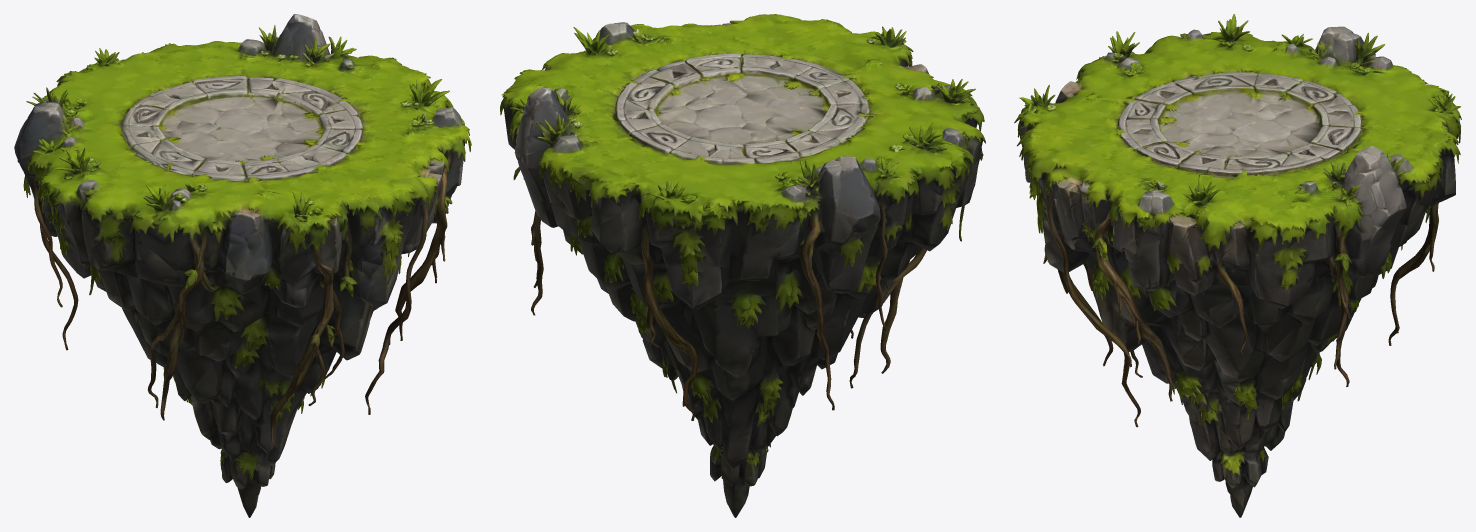
File: 01-crystal-isle-base.glb
3 renders of one model, left to right at view 1: azimuth 30°, elevation 25°; view 2: azimuth 150°, elevation 25°; view 3: azimuth 270°, elevation 25°, orthographic. The views are drawn at different scales.
Visible parts, largest first — view 1: tripo_node_db01f2f9-8520-4ed5-aa2b-e95d7a02ebef; view 2: tripo_node_db01f2f9-8520-4ed5-aa2b-e95d7a02ebef; view 3: tripo_node_db01f2f9-8520-4ed5-aa2b-e95d7a02ebef.
Part boxes in pixels (x1,y1,x2,y2): tripo_node_db01f2f9-8520-4ed5-aa2b-e95d7a02ebef: (14, 14, 471, 517); tripo_node_db01f2f9-8520-4ed5-aa2b-e95d7a02ebef: (500, 14, 985, 517); tripo_node_db01f2f9-8520-4ed5-aa2b-e95d7a02ebef: (1014, 14, 1461, 517).
Bounding box in the file's own units: 0.9732 × 0.9786 × 0.9296.
Materials: 1 (1 with a texture image).
